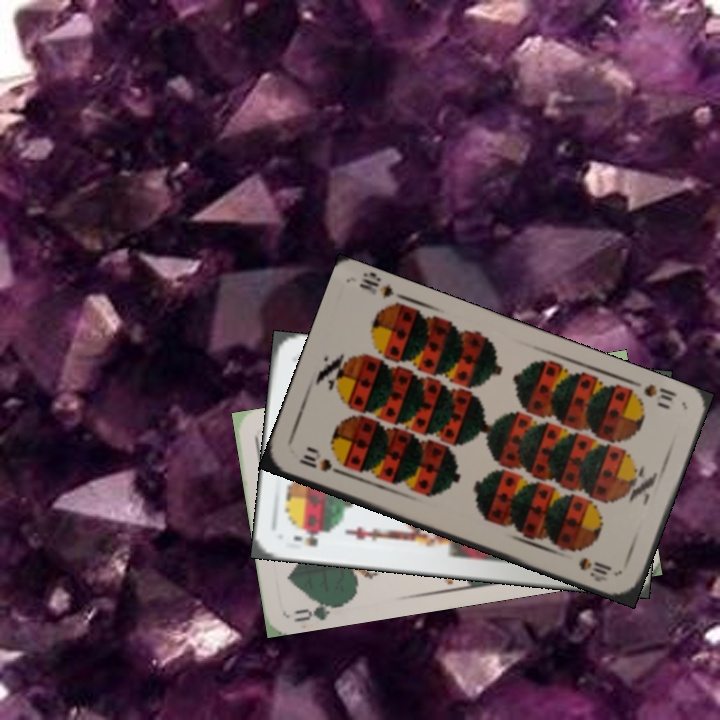GO: (290, 595, 347, 625)
S10: (294, 450, 347, 478), (640, 380, 679, 404)
SK: (288, 528, 321, 550)
